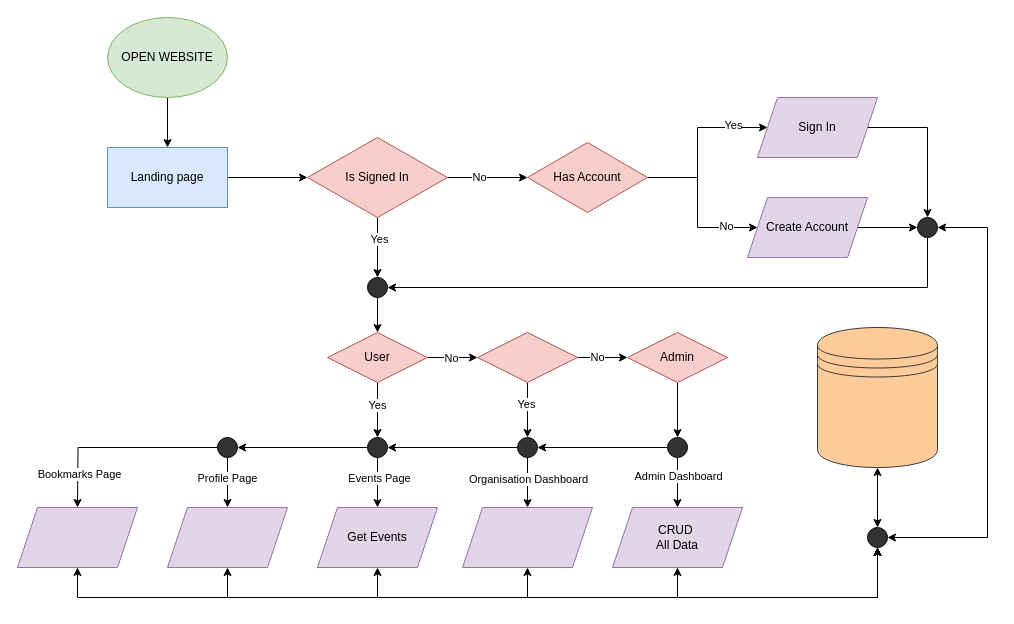
The diagram is 1014 pixels wide and 624 high, and some of its shapes have lost their labels. The shapes that lost their labels are listed below. From the top down, each one's centre as x and y in pixels, then its label:
point (527, 357): Organisation
point (877, 397): Data
point (77, 537): Get/Create Bookmarks
point (227, 537): Get User
point (527, 537): CRUD Organisation Data
